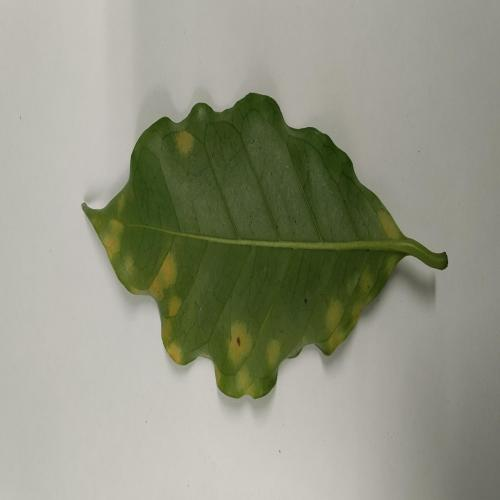phoma: (177, 131, 192, 153)
